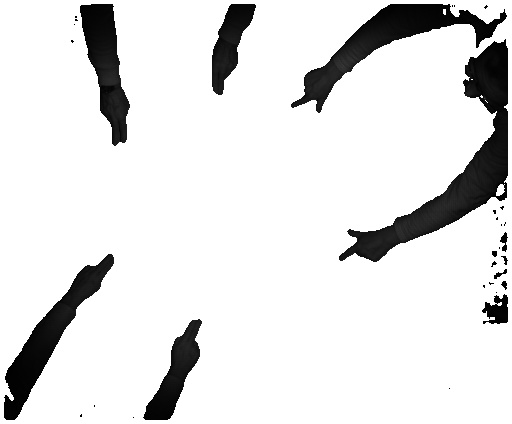hand: (73, 249, 119, 305), (288, 66, 333, 119), (96, 90, 135, 151), (167, 315, 207, 371), (336, 224, 389, 263), (208, 50, 239, 95)
